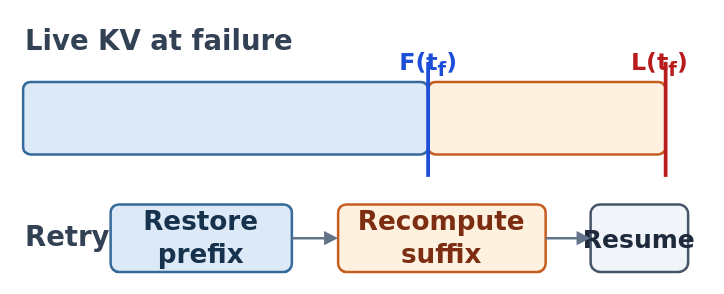
Some shapes in this 724 by 294 pixel diagram are drawn without their labels. The centre of each missing label's shape, as x and y in pixels:
"Exposed suffix" belongs at point (546, 117).
"Recoverable prefix" belongs at point (225, 117).
